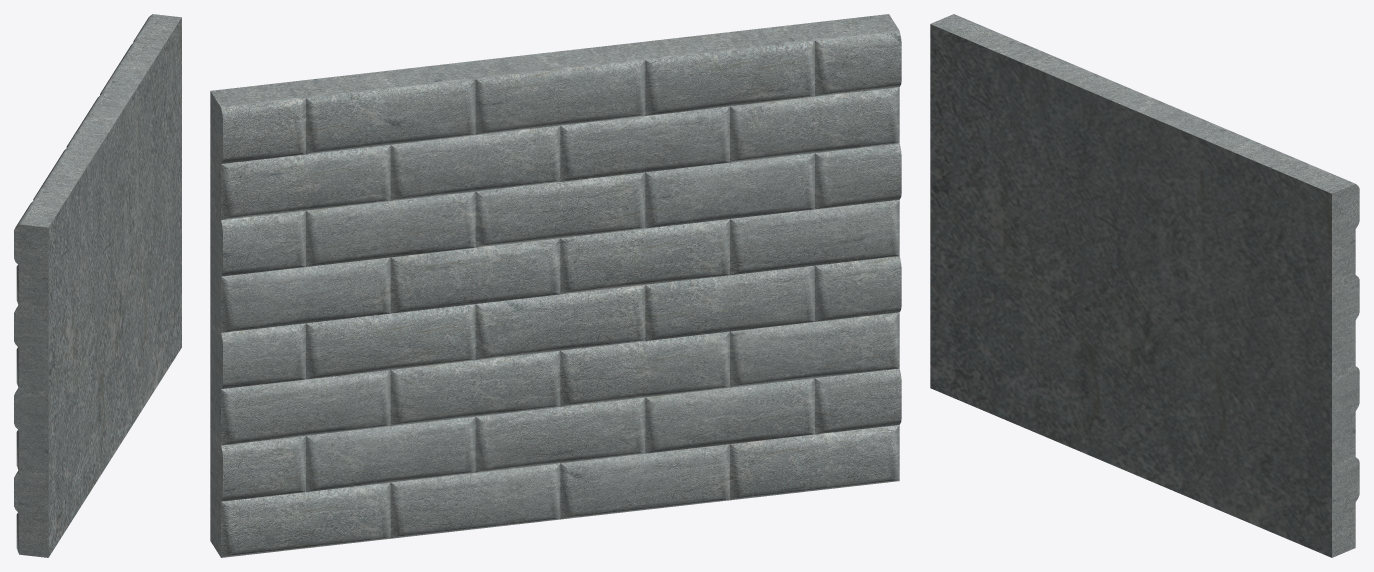
Rendered from Geomorph-StoneBrick-wall18.glb.
3 renders of one model, left to right at view 1: azimuth 30°, elevation 25°; view 2: azimuth 150°, elevation 25°; view 3: azimuth 270°, elevation 25°, orthographic. The views are drawn at different scales.
Visible parts, largest first — view 1: Wall; view 2: Wall; view 3: Wall.
Boxes of the visible parts, x1,y1,x2,y2 form: Wall: (14,14,181,557); Wall: (210,14,901,557); Wall: (930,14,1359,557).
Size of the model in its own units: 3.21 by 3 by 3.21.
1 material, 1 textured.
